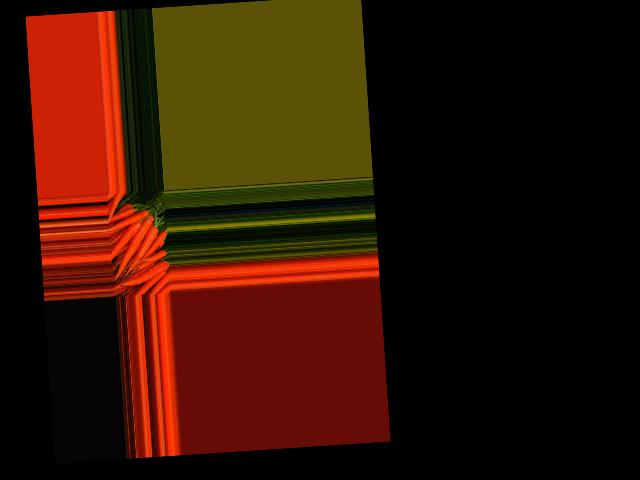carrot: (107, 221, 142, 260)
